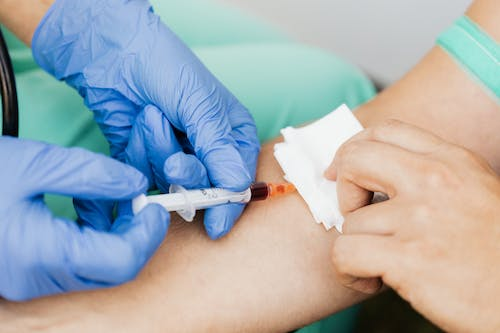blood: (244, 181, 296, 204)
